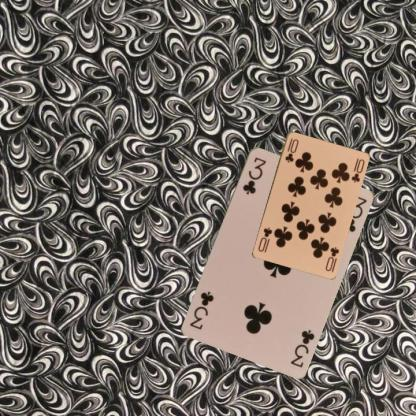10c: (282, 135, 300, 164), (322, 244, 340, 272)
3c: (287, 326, 316, 368), (240, 154, 267, 196)
